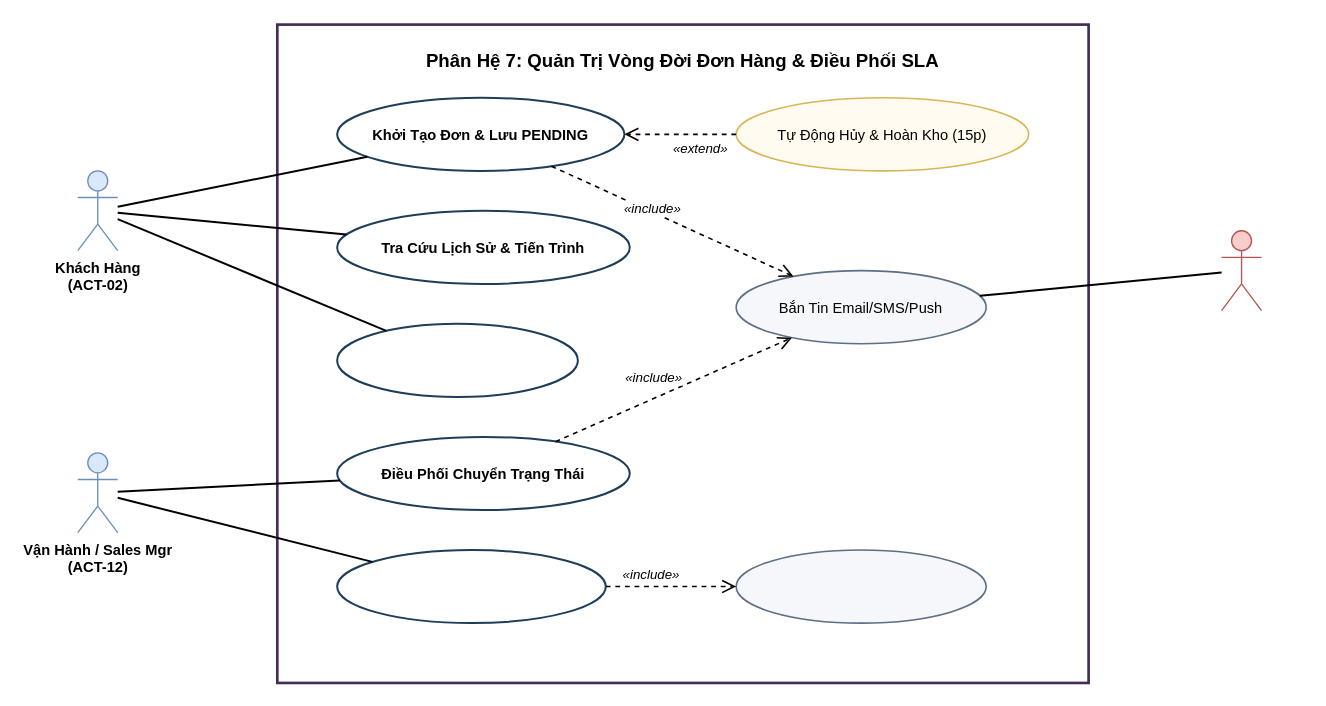
Image size: 1326x706. Some labels were removed from this diagram. The centre of each missing label's shape, as x and y in pixels:
Hệ Thống Bắn Tin (EXT-06): [1241,270]
Khách Hàng Tự Hủy Đơn: [457,359]
Phân Luồng SLA Ưu Tiên: [860,585]
Quản Lý Đơn Hàng Đa Kênh: [471,586]
